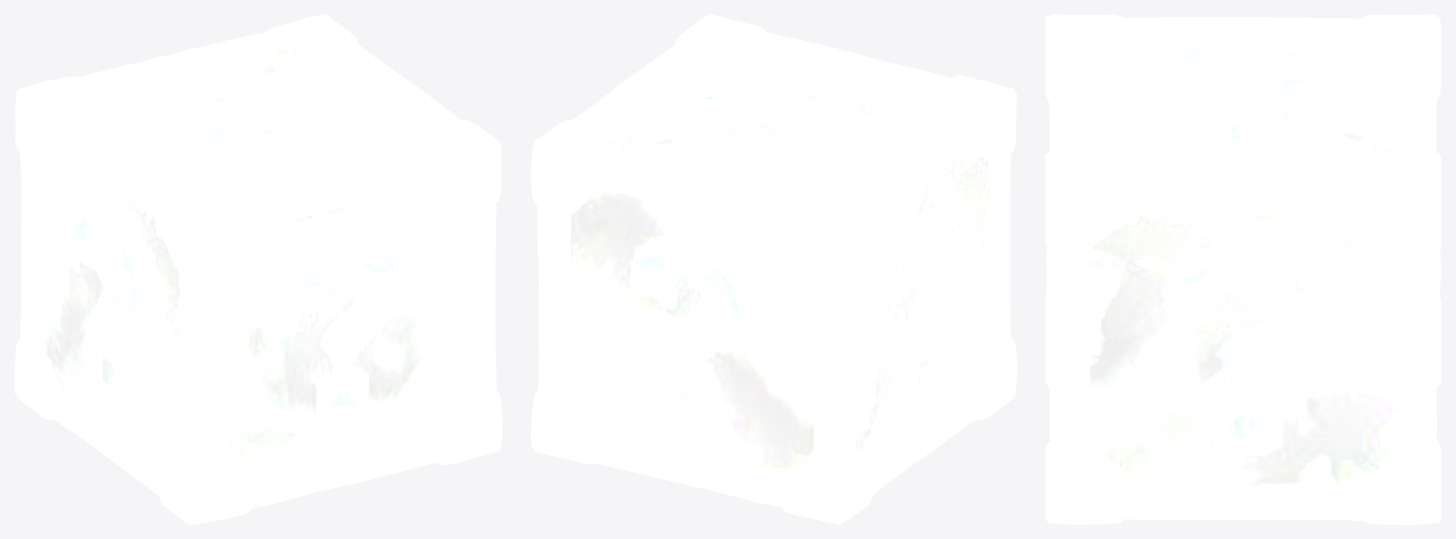
File: bau-encantado.glb
3 views of the same model, side by side, from view 1: azimuth 30°, elevation 25°; view 2: azimuth 150°, elevation 25°; view 3: azimuth 270°, elevation 25° (orthographic). The views are drawn at different scales.
Parts seen in each view (by area): view 1: mesh_node; view 2: mesh_node; view 3: mesh_node.
Part boxes in pixels (x1,y1,x2,y2): mesh_node: (14, 14, 502, 524); mesh_node: (531, 14, 1016, 524); mesh_node: (1045, 14, 1441, 524).
Bounding box in the file's own units: 1 × 1 × 1.
1 material, 1 textured.
